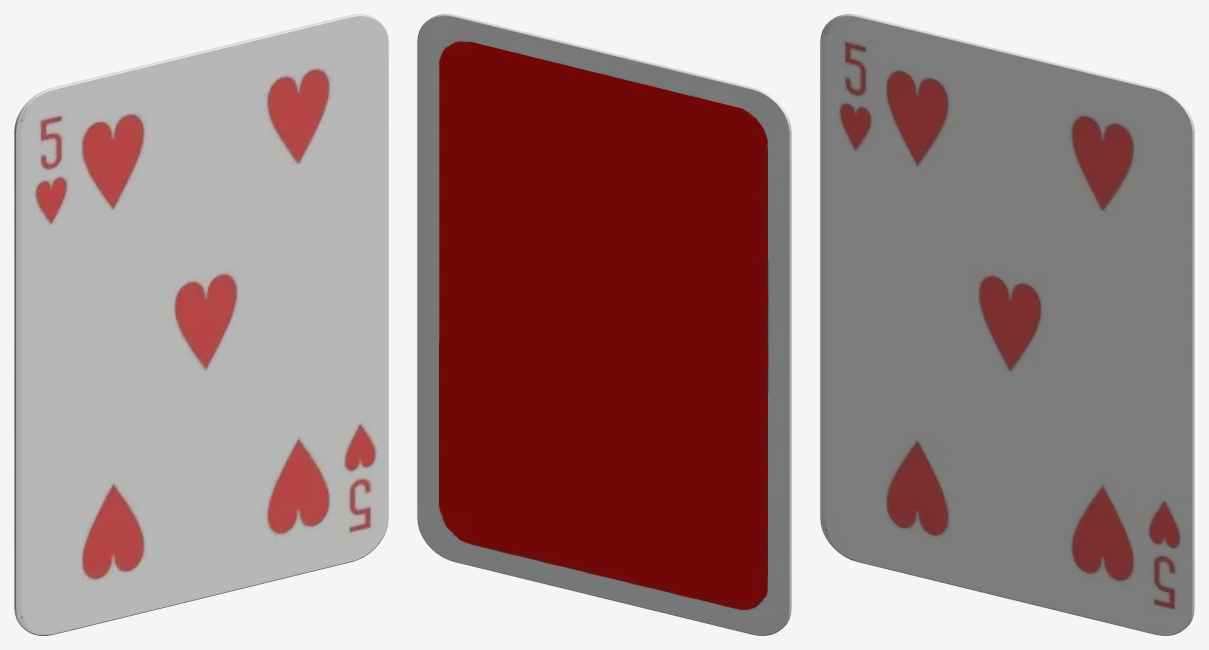
File: hearts_5-transformed.glb
3 renders of one model, left to right at view 1: azimuth 30°, elevation 25°; view 2: azimuth 150°, elevation 25°; view 3: azimuth 330°, elevation 25°, orthographic.
Visible parts, largest first — view 1: defaultMaterial.043; view 2: defaultMaterial.043; view 3: defaultMaterial.043.
Boxes of the visible parts, bbox=[...] form: defaultMaterial.043: bbox=[14, 14, 388, 635]; defaultMaterial.043: bbox=[417, 14, 791, 635]; defaultMaterial.043: bbox=[820, 14, 1194, 635].
Size of the model in its own units: 0.1408 by 0.1972 by 0.00111.
Materials: 1 (1 with a texture image).
